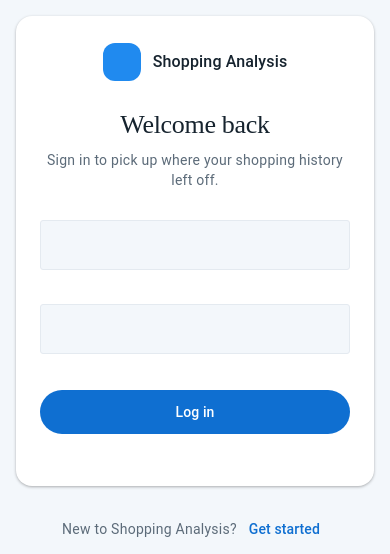
Login screen › surfaces a rejected sign-in and does not navigate
The width and height of the screenshot is (390, 554).
Type "shopper@example.com" into the field named "Email".
click(195, 246); type("shopper@example.com")  # box [40,222,350,270]
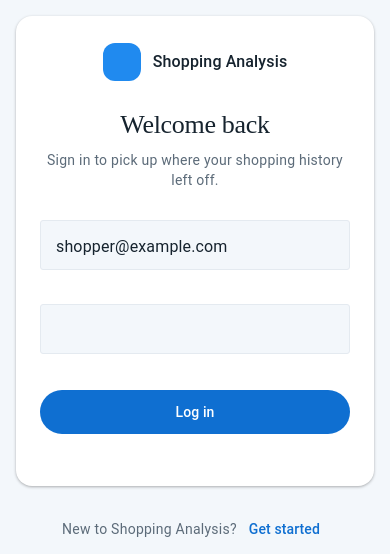
Type "wrong-pass" into the password field named "Password".
click(167, 330); type("wrong-pass")  # box [40,306,294,354]
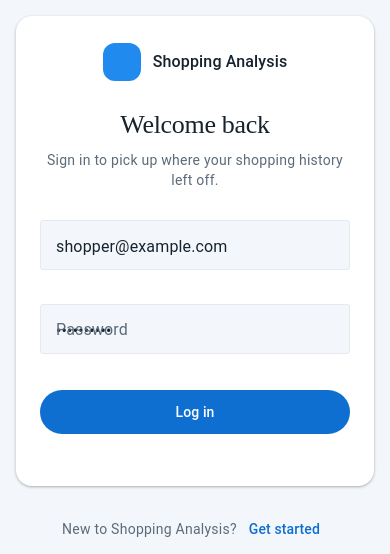
Click the button labelled "Log in".
click(195, 412)  # box [40,390,350,434]
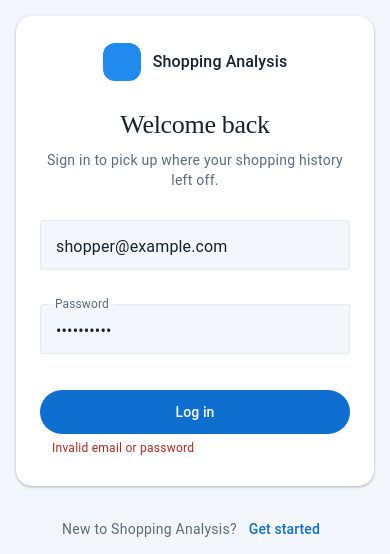
Result: the text "Invalid email or password" is shown at [52,441,194,455]
